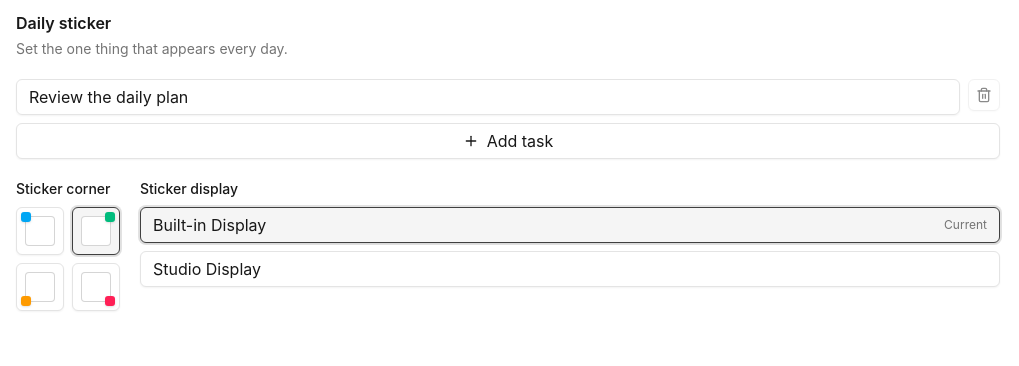
Test: ConfigView › shows saving while task autosave is pending
Step 1. Replace the text in the field showing "Review the daily plan" with "Keep focus" → (488, 97), box [16,79,960,115]
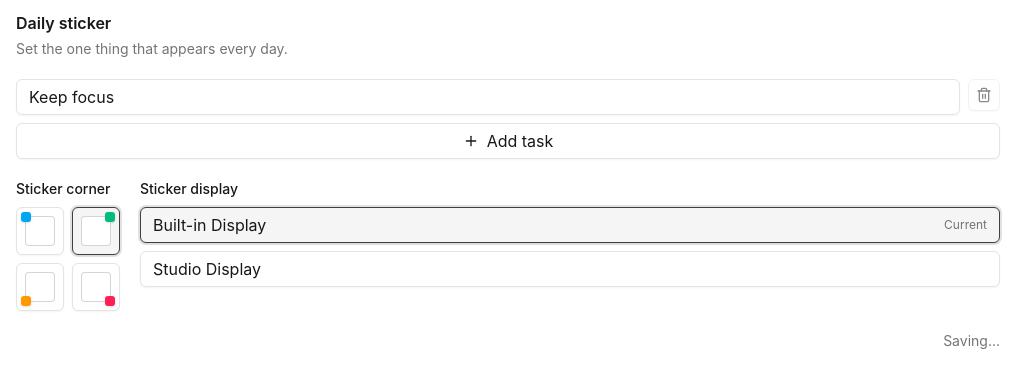
Expected: the message reads "Saving...", [943,332,1000,349]
